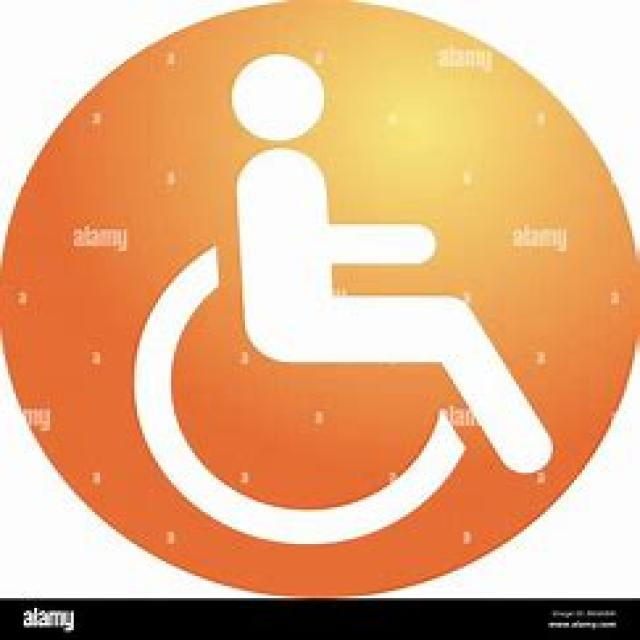car-handicap-placard: (136, 55, 554, 552)
